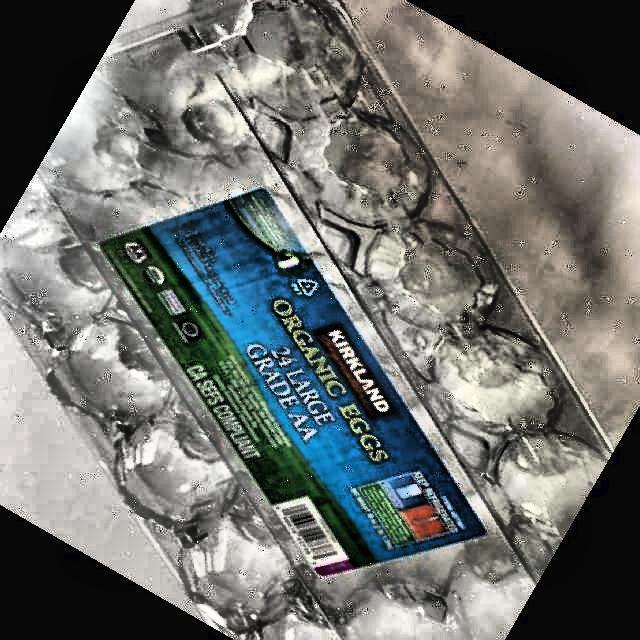plastic: (0, 2, 609, 639)
